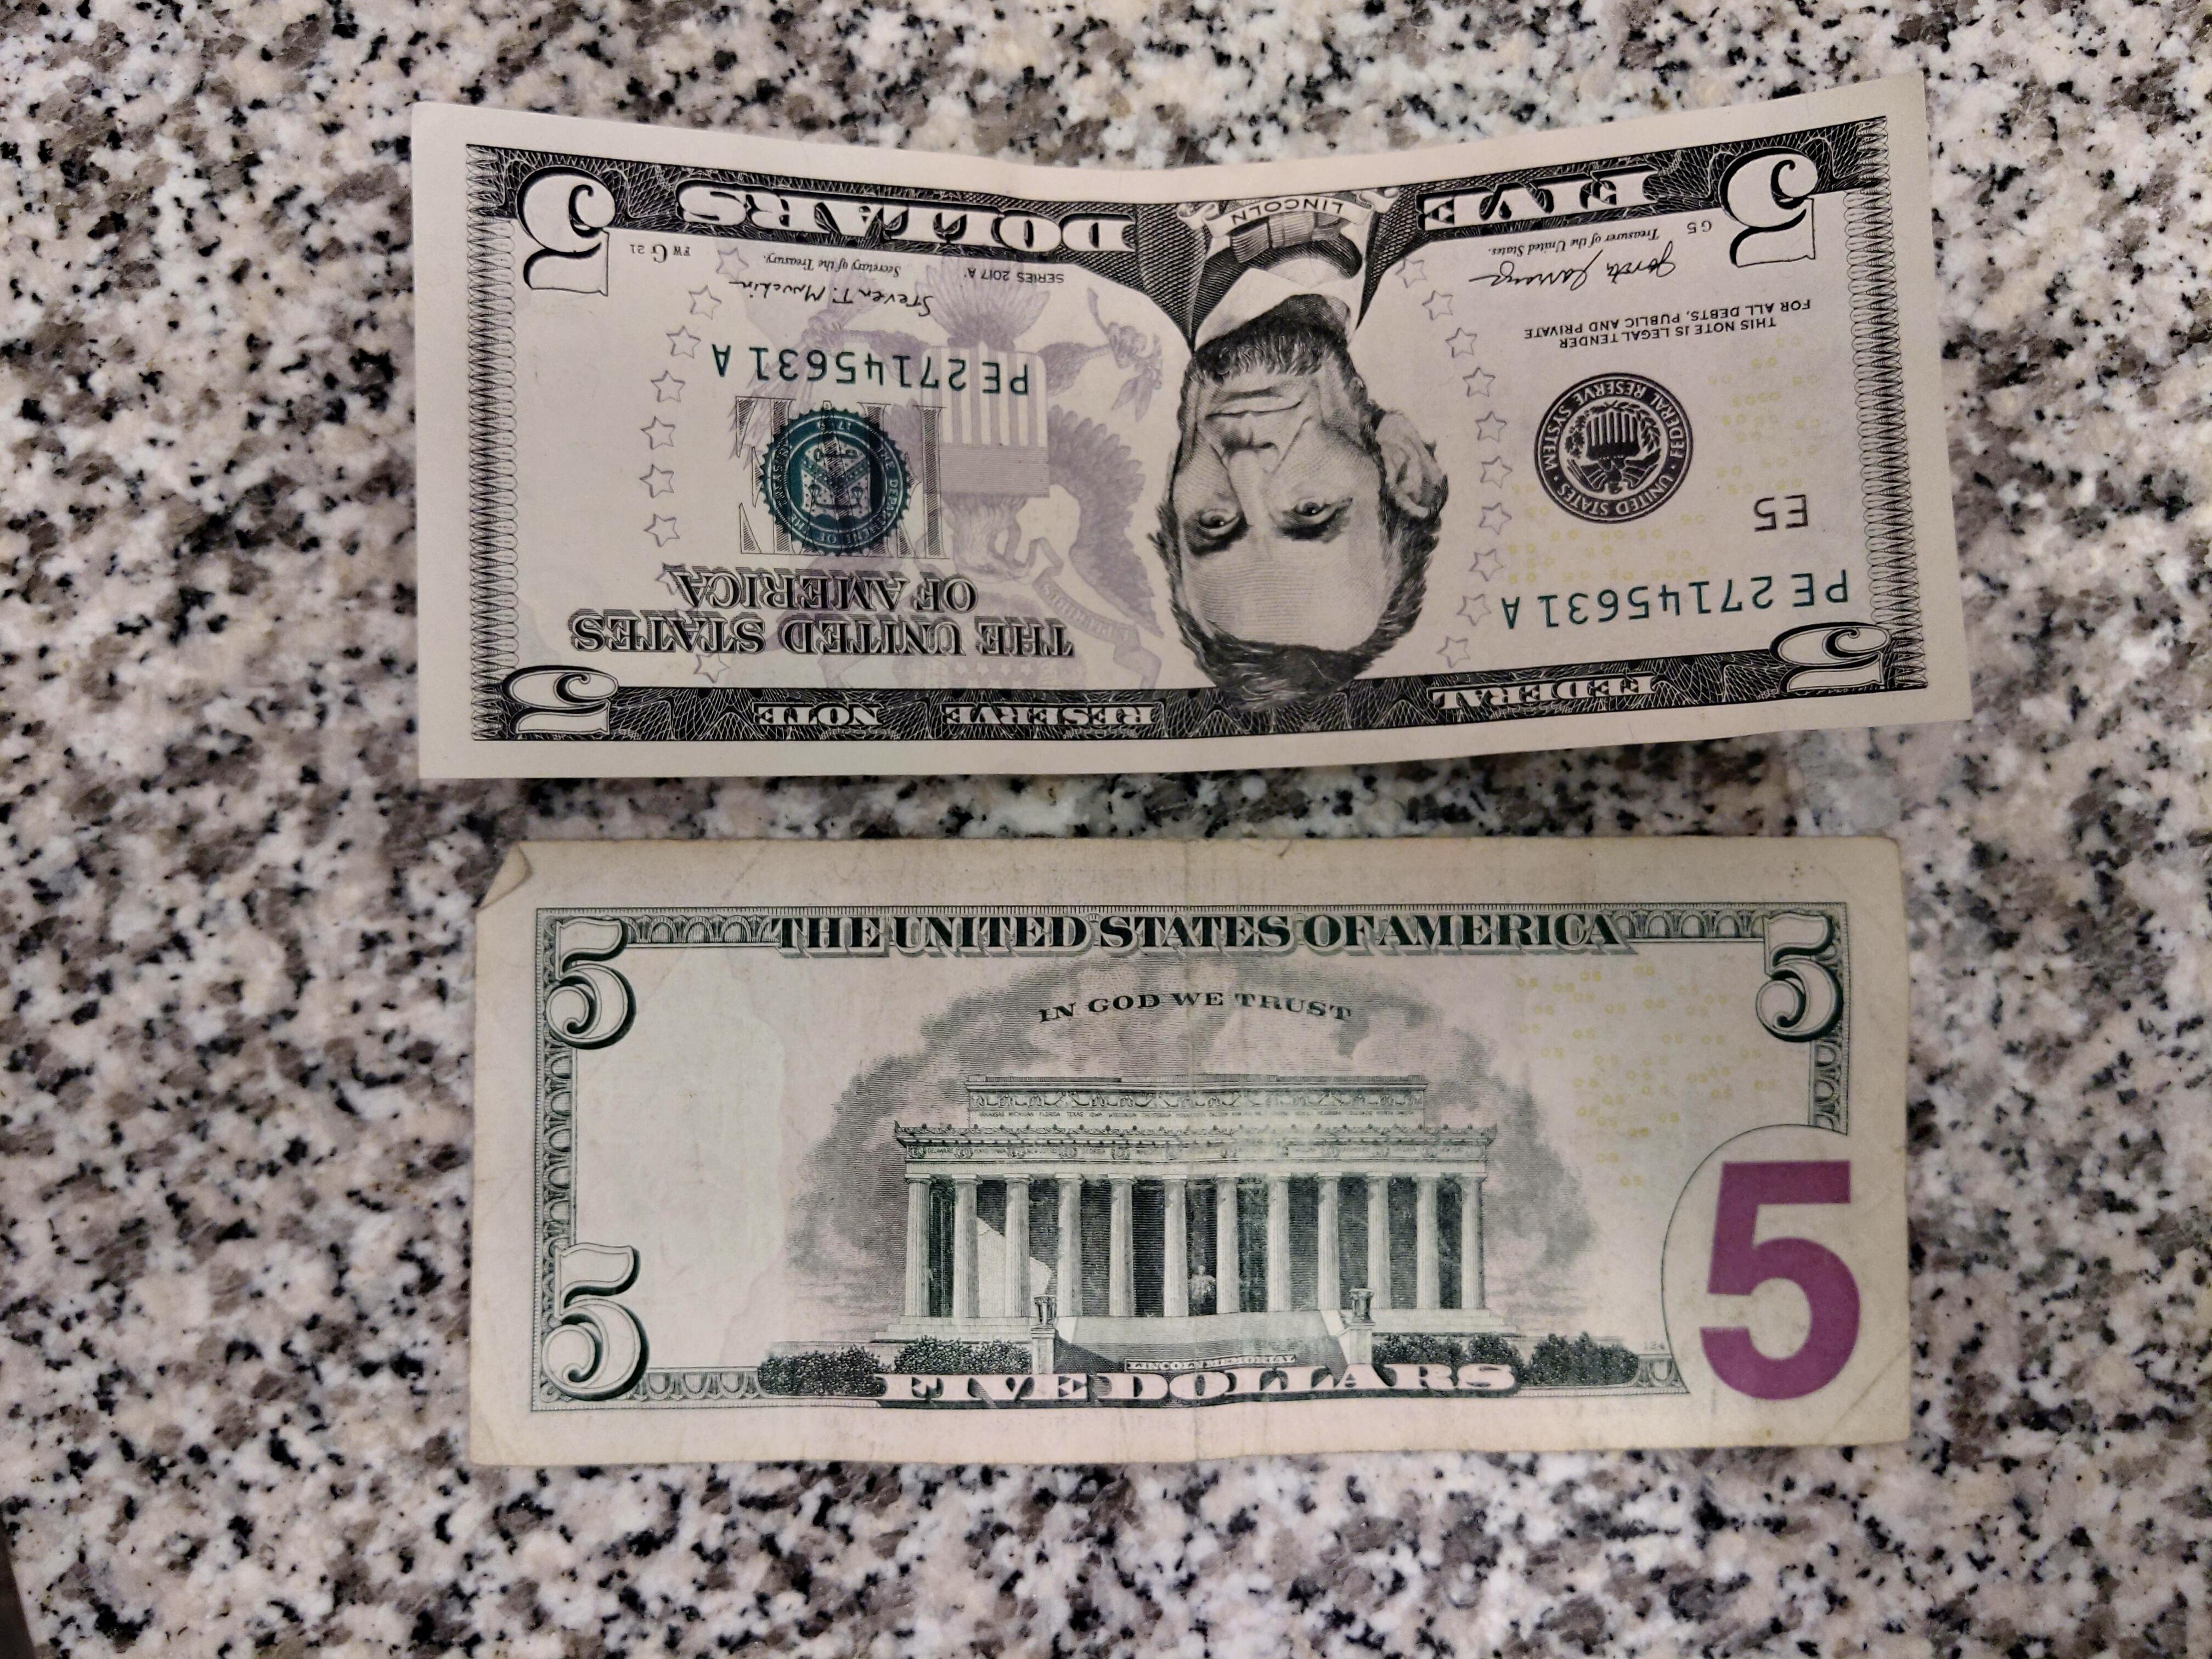FiveBill: (408, 66, 1980, 786), (467, 835, 1923, 1471)
